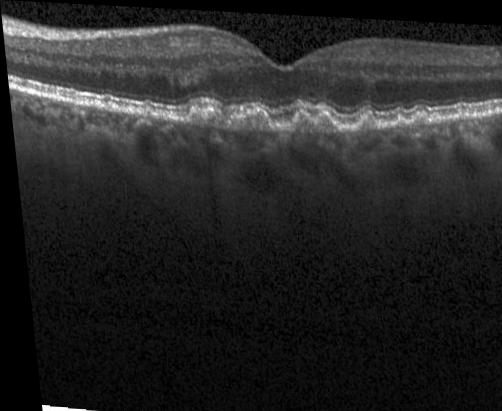retinal_drusen: (228, 107, 270, 129), (293, 109, 314, 132), (314, 111, 335, 130), (455, 102, 473, 116), (188, 109, 203, 124), (427, 106, 442, 118), (393, 115, 412, 124), (412, 109, 426, 121), (204, 109, 215, 124), (102, 100, 118, 110), (366, 110, 375, 127), (141, 103, 151, 115), (358, 116, 366, 128)
